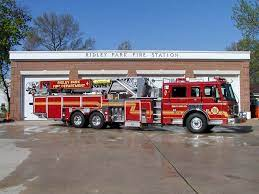special: (30, 73, 241, 133)
